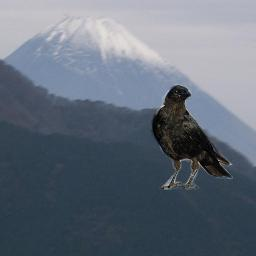Crow: (150, 84, 233, 190)
